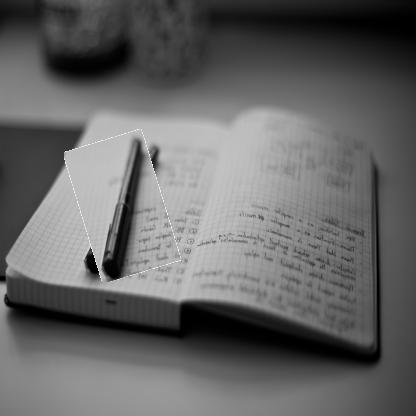Pen: (72, 134, 172, 279)
